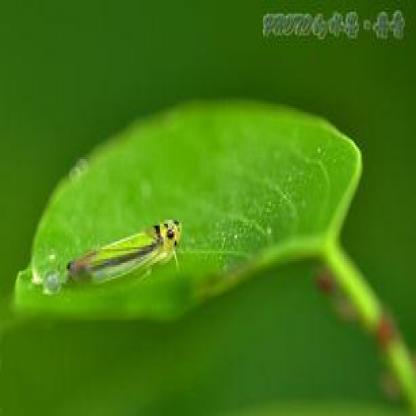Green-Leafhopper: (57, 209, 186, 284)
